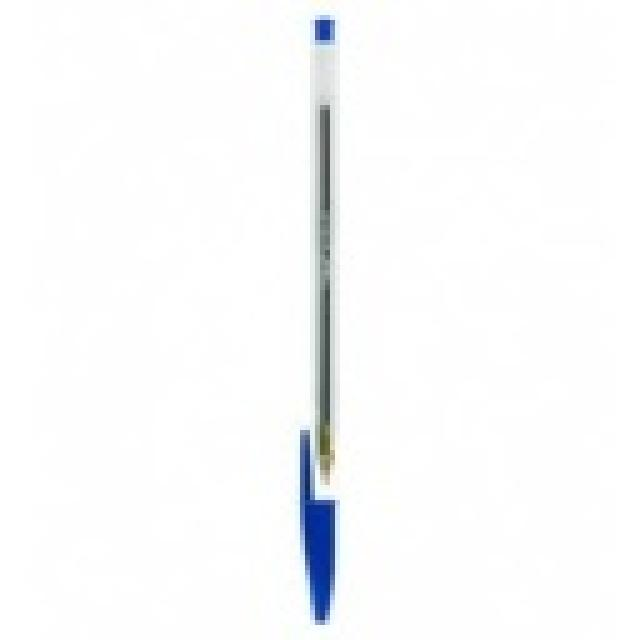pen: (298, 6, 356, 635)
